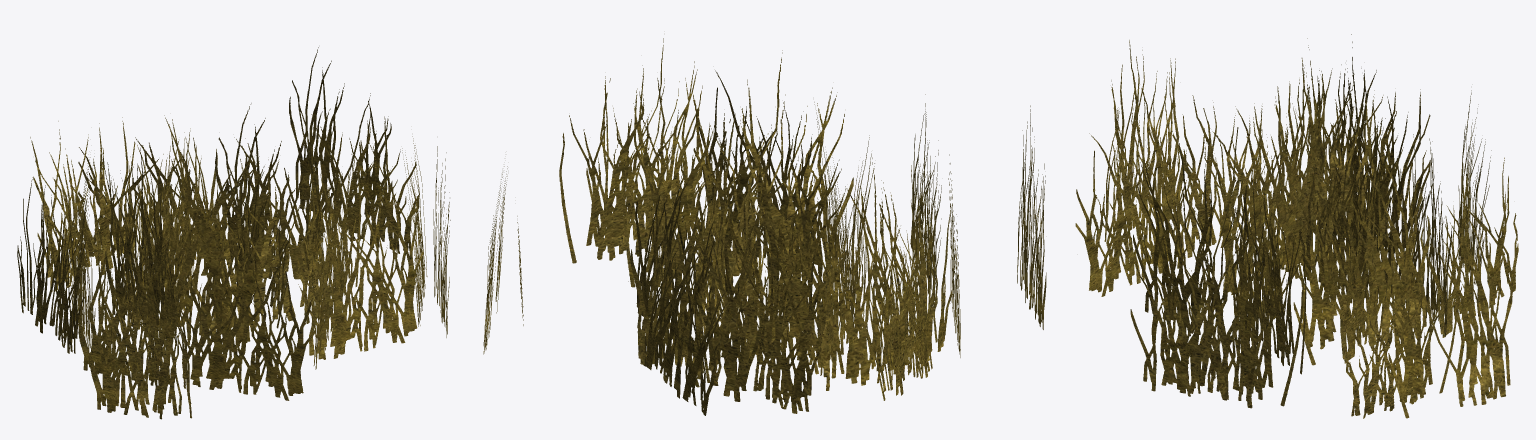
The model's file is grass_3d_03_yellow.glb.
3 views of the same model, side by side, from view 1: azimuth 30°, elevation 25°; view 2: azimuth 150°, elevation 25°; view 3: azimuth 270°, elevation 25° (orthographic). The views are drawn at different scales.
Parts seen in each view (by area): view 1: grass_cards; view 2: grass_cards; view 3: grass_cards.
Part boxes in pixels (x1,y1,x2,y2): grass_cards: [17, 47, 450, 419]; grass_cards: [483, 38, 1046, 415]; grass_cards: [1075, 34, 1518, 418].
Bounding box in the file's own units: 1.11 × 0.5631 × 0.9892.
1 material, 1 textured.
